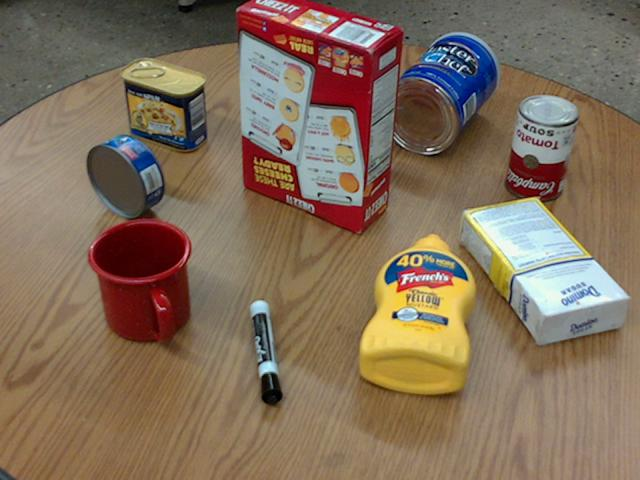cracker_box: (236, 0, 402, 231)
gelatin_box: (252, 60, 336, 115)
large_marker: (248, 300, 281, 405)
master_chef_can: (379, 31, 497, 153)
mug: (87, 219, 191, 342)
mustard_bottle: (357, 233, 474, 394)
potted_meat_can: (118, 59, 205, 151)
sugar_box: (457, 199, 629, 341)
tomato_soup_can: (503, 93, 576, 198)
tuna_fish_can: (86, 135, 163, 218)
